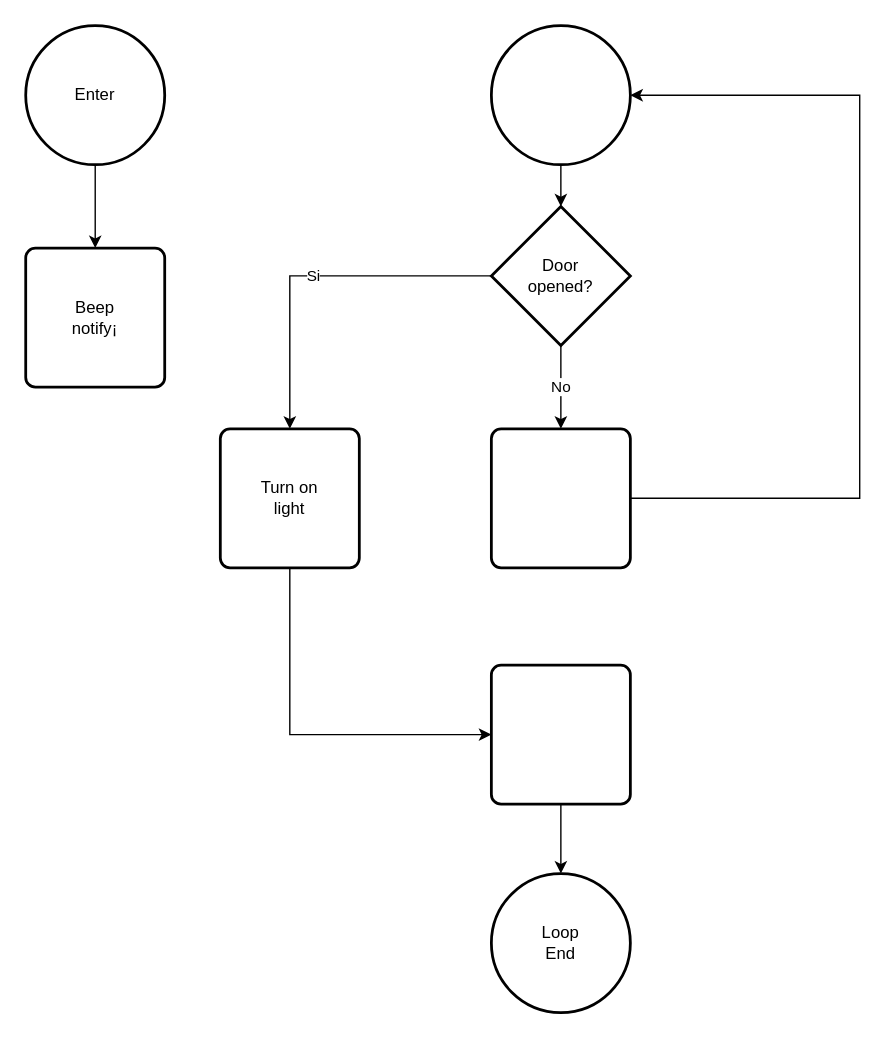
Image size: 895x1037. Some labels were removed from this diagram. The centre of each missing label's shape, as x and y in pixels:
"Change state to UNARMORING" goes at point (560, 734).
"Loop start" goes at point (560, 94).
"Turn off light" goes at point (560, 498).
